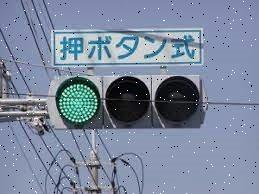cars: (47, 76, 205, 126)
